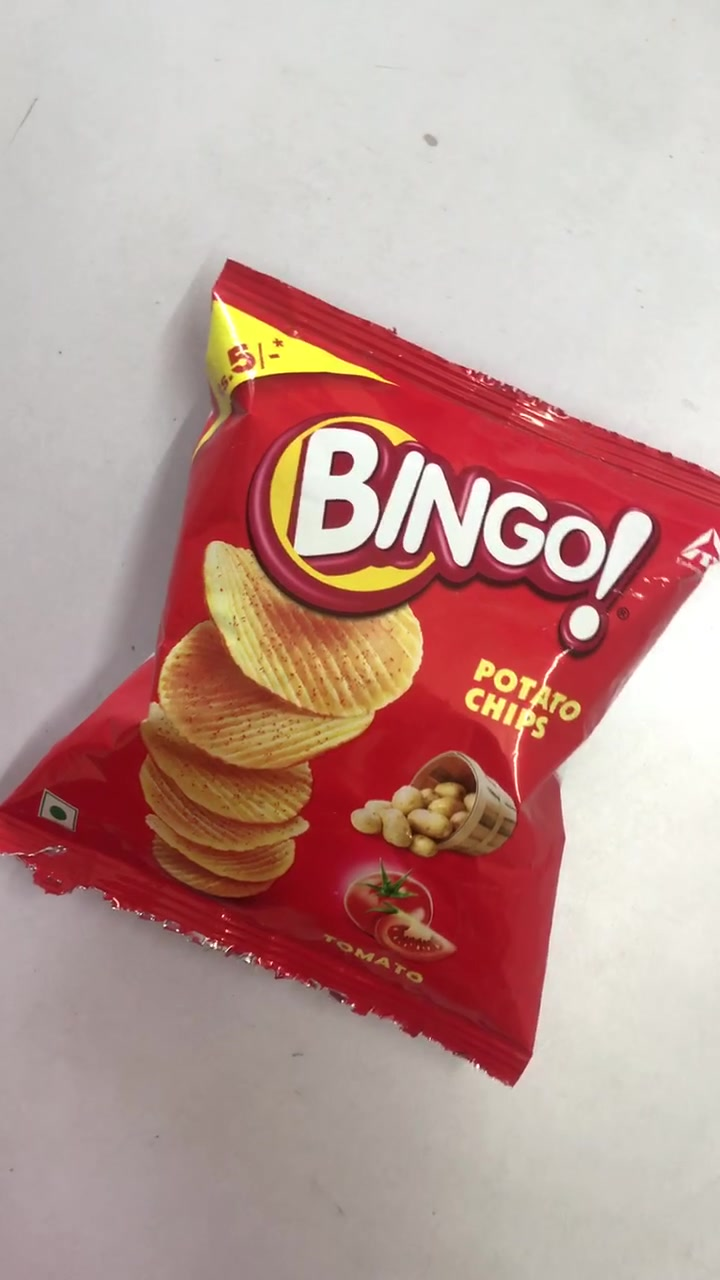Bingo: (2, 264, 720, 1084)
